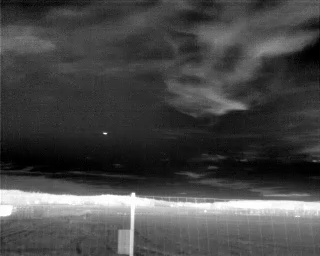AIRPLANE: (101, 129, 109, 137)
